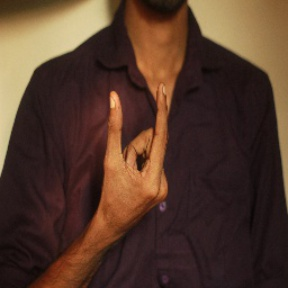U: (89, 82, 180, 212)
